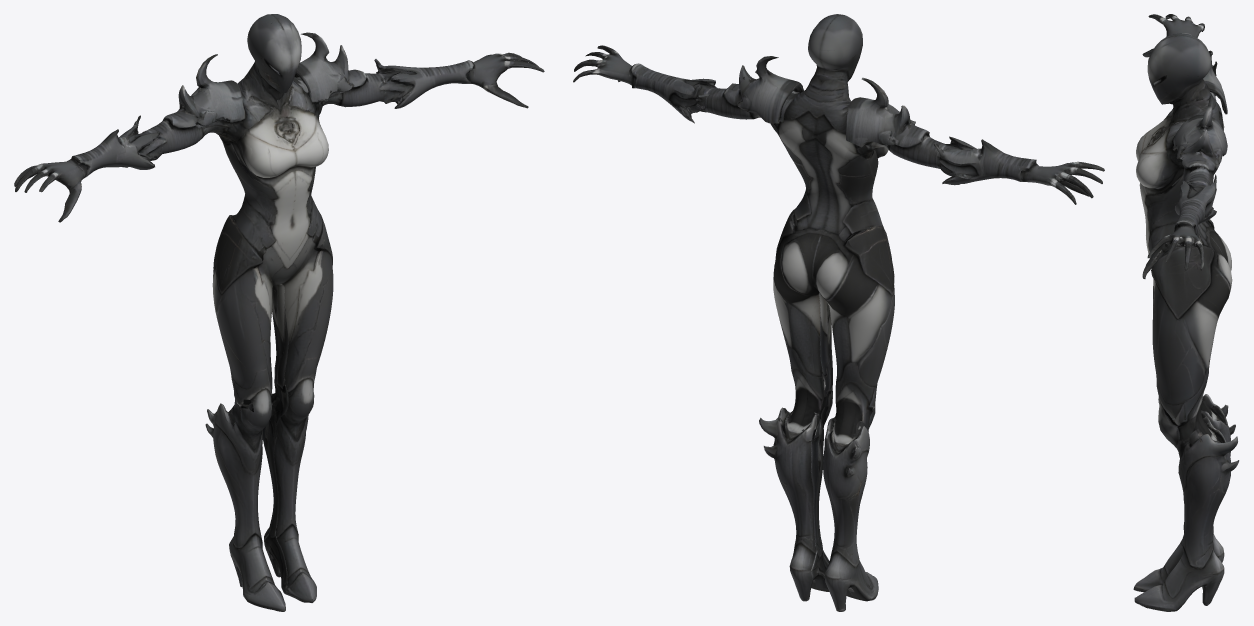
Rendered from Female_Cyber_Stalker_0121040023_texture.fbx.
The picture shows the model from 3 angles, left to right: view 1: azimuth 30°, elevation 25°; view 2: azimuth 150°, elevation 25°; view 3: azimuth 270°, elevation 25°; orthographic projection. The views are drawn at different scales.
Parts seen in each view (by area): view 1: Mesh0; view 2: Mesh0; view 3: Mesh0.
Boxes of the visible parts, left/top/right/bottom form: Mesh0: left=14, top=14, right=544, bottom=611; Mesh0: left=573, top=14, right=1104, bottom=611; Mesh0: left=1133, top=14, right=1239, bottom=611.
Size of the model in its own units: 179 by 191 by 32.69.
1 material, 1 textured.
